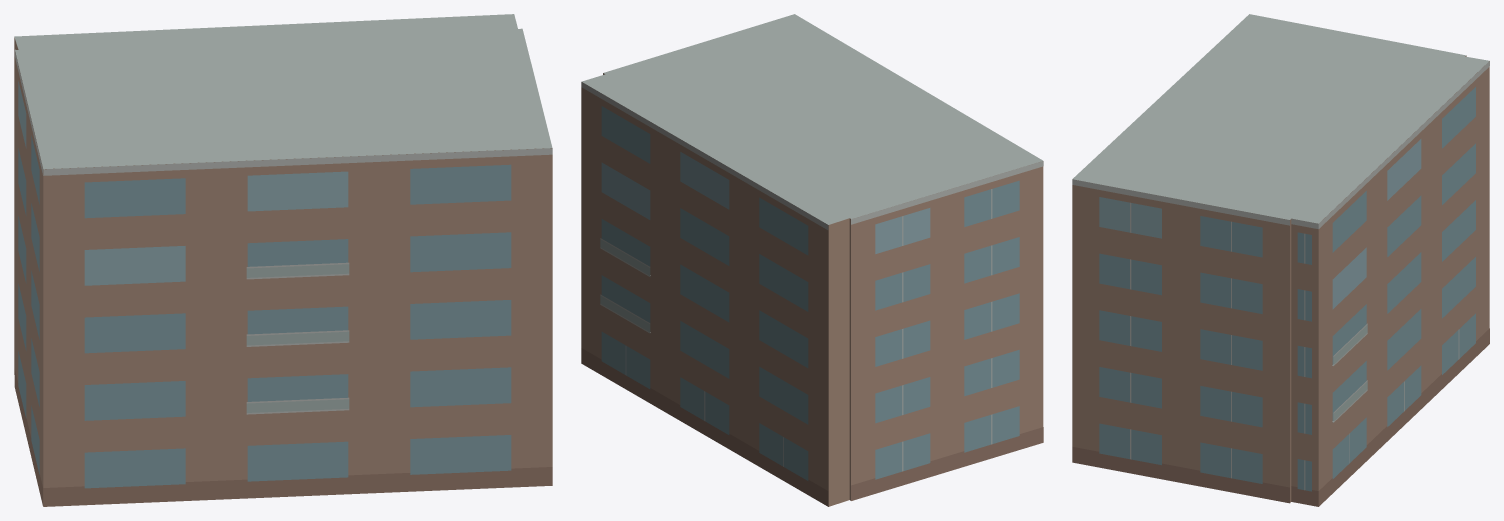
The model's file is survey-upis-32658791.glb.
The picture shows the model from 3 angles, left to right: view 1: azimuth 30°, elevation 25°; view 2: azimuth 150°, elevation 25°; view 3: azimuth 270°, elevation 25°; orthographic projection. The views are drawn at different scales.
Parts seen in each view (by area): view 1: survey-upis-32658791.tmp; view 2: survey-upis-32658791.tmp; view 3: survey-upis-32658791.tmp.
Boxes of the visible parts, left/top/right/bottom form: survey-upis-32658791.tmp: left=14, top=14, right=552, bottom=506; survey-upis-32658791.tmp: left=581, top=14, right=1043, bottom=506; survey-upis-32658791.tmp: left=1072, top=14, right=1489, bottom=506.
Size of the model in its own units: 19.65 by 12.38 by 16.54.
